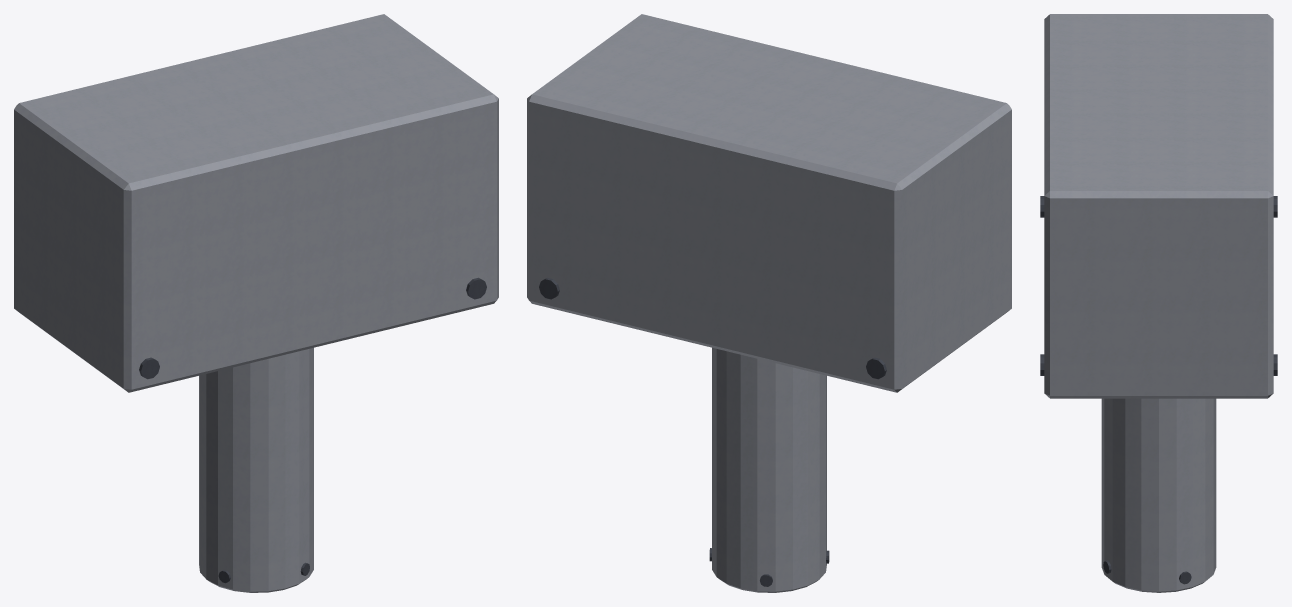
The model's file is ClawAa.fbx.
The picture shows the model from 3 angles, left to right: view 1: azimuth 30°, elevation 25°; view 2: azimuth 150°, elevation 25°; view 3: azimuth 270°, elevation 25°; orthographic projection.
Visible parts, largest first — view 1: SM_VA_ClawAa.mo; view 2: SM_VA_ClawAa.mo; view 3: SM_VA_ClawAa.mo.
Part boxes in pixels (x1,y1,x2,y2): SM_VA_ClawAa.mo: (14, 14, 498, 592); SM_VA_ClawAa.mo: (527, 14, 1011, 592); SM_VA_ClawAa.mo: (1040, 14, 1277, 592).
Bounding box in the file's own units: 15 × 18 × 8.29.
